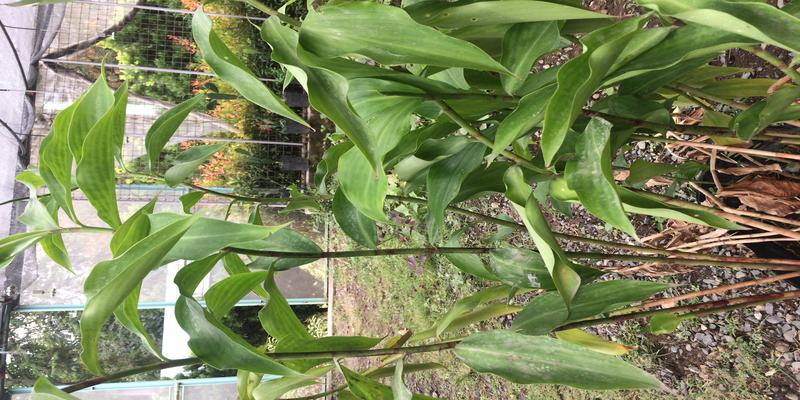Insulin: (320, 22, 791, 284)
